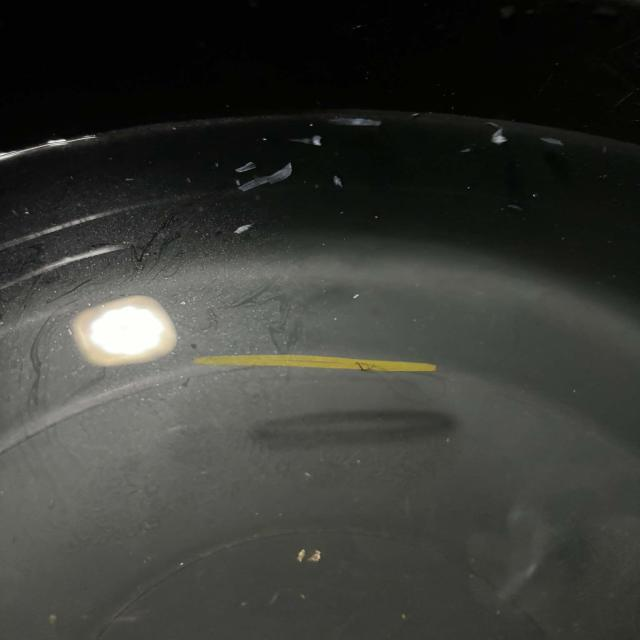Rubberband: (193, 355, 436, 372)
